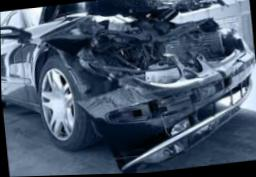Bonnet: (42, 0, 243, 65)
Bumper: (57, 49, 253, 174)
Light: (77, 46, 144, 77)
